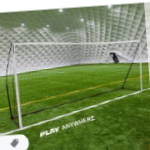goals: (6, 37, 146, 126)
